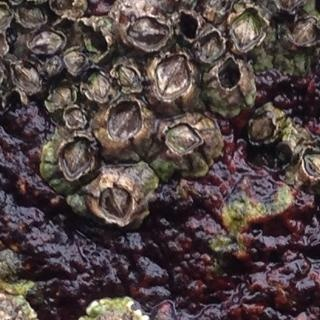Barnacle: (154, 54, 190, 99), (107, 102, 142, 144), (229, 8, 266, 47), (131, 17, 171, 51), (59, 139, 92, 176), (99, 185, 134, 218), (169, 122, 201, 154), (31, 29, 65, 56), (10, 64, 39, 95), (84, 70, 112, 101), (291, 18, 319, 47), (250, 113, 276, 143), (117, 64, 143, 91), (16, 4, 46, 27), (49, 85, 74, 110), (200, 32, 223, 59), (66, 107, 89, 133), (65, 49, 88, 73), (302, 149, 320, 179), (42, 57, 62, 81), (206, 0, 229, 16), (52, 0, 75, 16), (0, 6, 10, 28)
